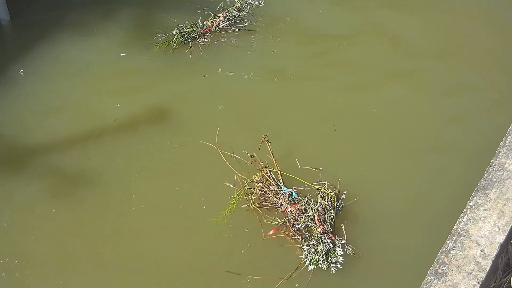twig: (194, 126, 372, 278), (156, 0, 270, 61)
